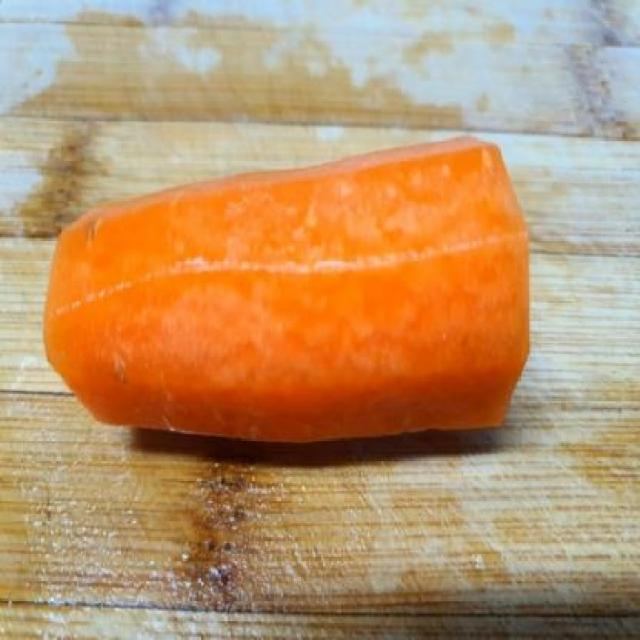carrot: (37, 133, 537, 450)
